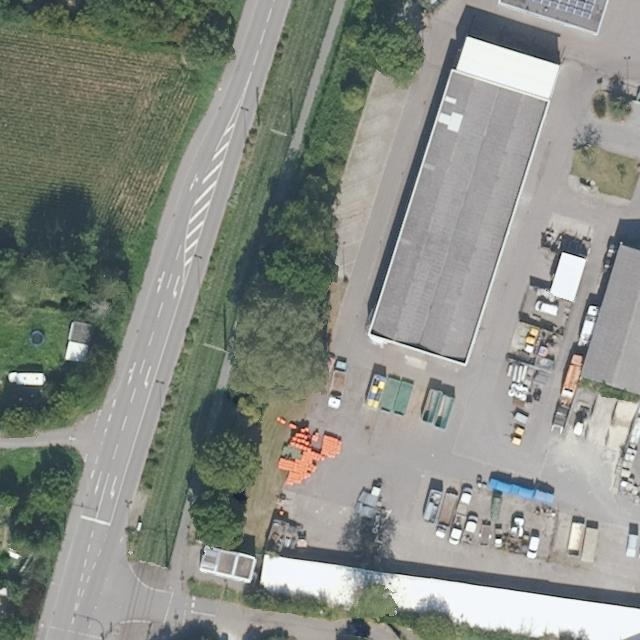PV: (521, 3, 600, 23)
